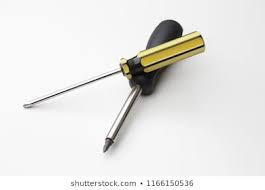screwdriver: (22, 94, 43, 109), (100, 137, 114, 153)
